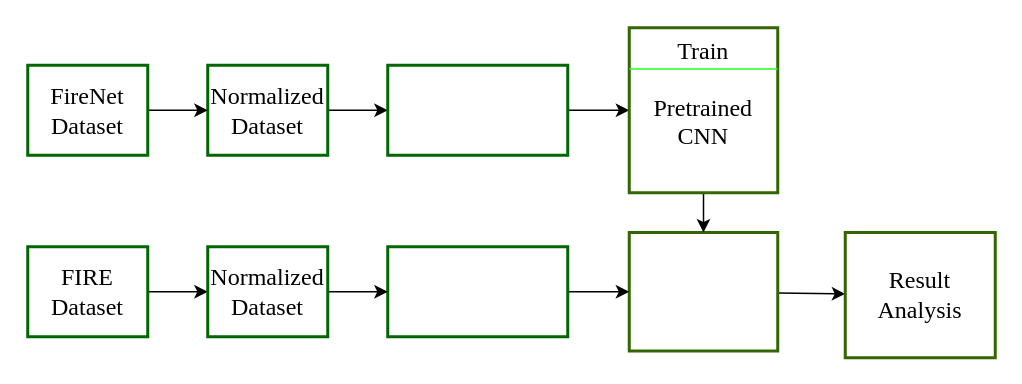
The diagram is 1022 pixels wide and 384 high, and some of its shapes have lost their labels. Here are the shapes that lost their labels. From the top down, the centre of each, then its label:
At (477,109): "Training Dataset".
At (477,291): "Test Dataset".
At (702,291): "Model Evaluation".
